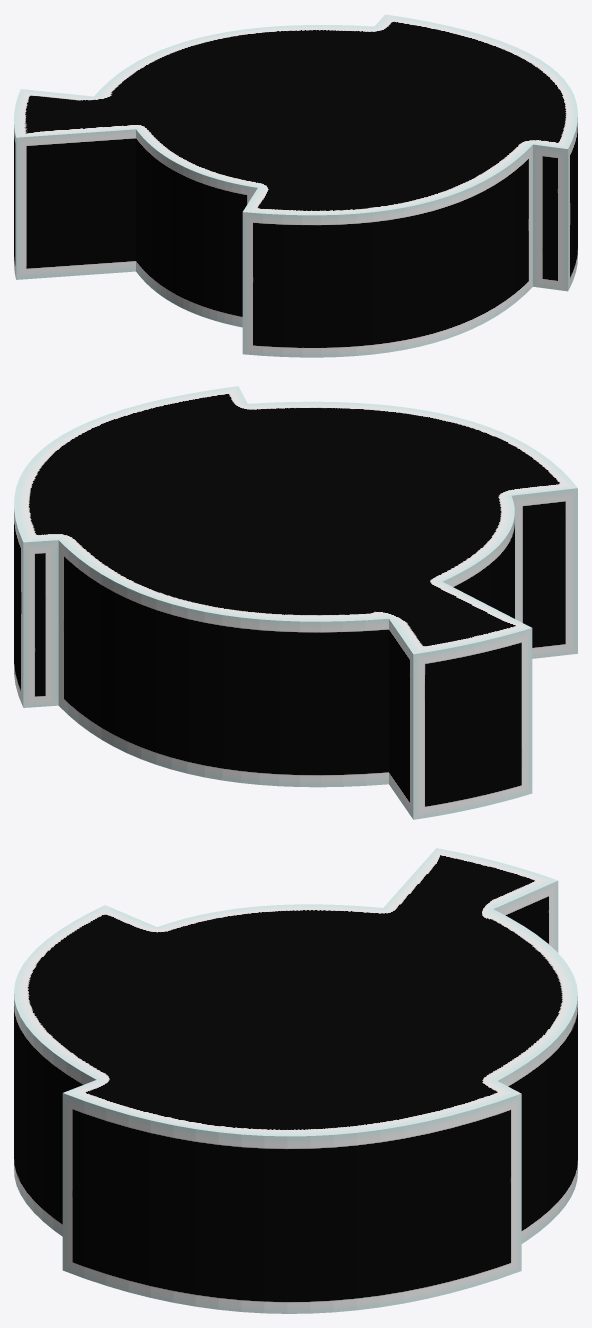
The model's file is SegmentumSolar.obj.
The picture shows the model from 3 angles, top to bottom: view 1: azimuth 30°, elevation 25°; view 2: azimuth 150°, elevation 25°; view 3: azimuth 270°, elevation 25°; orthographic projection. The views are drawn at different scales.
Visible parts, largest first — view 1: SegmentumSolarCurve.001_Mesh; view 2: SegmentumSolarCurve.001_Mesh; view 3: SegmentumSolarCurve.001_Mesh.
Boxes of the visible parts, box(x1,y1,x2,y2) form: SegmentumSolarCurve.001_Mesh: box(14, 14, 577, 357); SegmentumSolarCurve.001_Mesh: box(14, 386, 577, 819); SegmentumSolarCurve.001_Mesh: box(14, 848, 577, 1313).
Size of the model in its own units: 2.79 by 0.8 by 2.3.
Materials: 1 (1 with a texture image).
